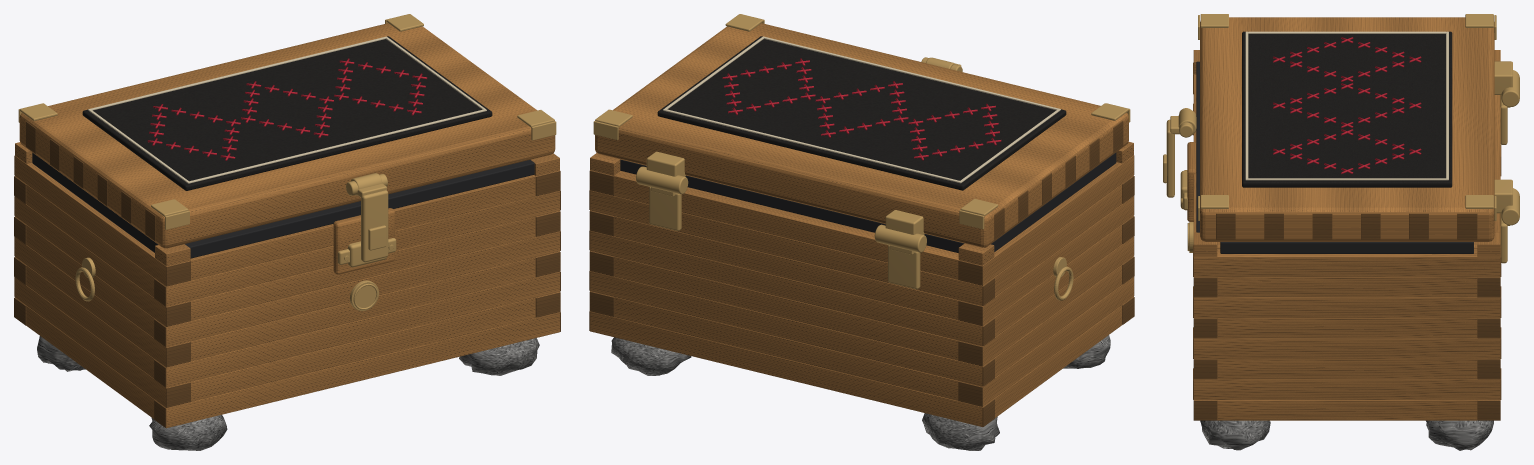
The model's file is palestine.glb.
3 renders of one model, left to right at view 1: azimuth 30°, elevation 25°; view 2: azimuth 150°, elevation 25°; view 3: azimuth 270°, elevation 25°, orthographic.
Visible parts, largest first — view 1: Lid / polished slab, Textile / inset, Honey wood / front course 0, Honey wood / front course 2, Honey wood / front course 4, Honey wood / front course 1, Honey wood / front course 3, Honey wood / front course 6, Honey wood / front course 5, Honey wood / front course 7, Mineral seam / long, Honey wood / side course 7 (+17 smaller); view 2: Lid / polished slab, Textile / inset, Honey wood / rear course 2, Honey wood / rear course 4, Honey wood / rear course 0, Honey wood / rear course 7, Honey wood / rear course 5, Honey wood / rear course 1, Honey wood / rear course 3, Honey wood / rear course 6, Honey wood / side course 7, Honey wood / side course 1 (+21 smaller); view 3: Textile / inset, Lid / polished slab, Honey wood / side course 7.001, Honey wood / side course 5.001, Honey wood / side course 3.001, Honey wood / side course 1.001, Honey wood / side course 6.001, Honey wood / side course 0.001, Honey wood / side course 2.001, Honey wood / side course 4.001, Mineral seam / side.001, Granite foot.002 (+34 smaller).
Part boxes in pixels (<box>): Lid / polished slab: <box>19,23,555,248</box>; Textile / inset: <box>82,36,492,190</box>; Honey wood / front course 0: <box>155,312,559,428</box>; Honey wood / front course 2: <box>155,271,559,387</box>; Honey wood / front course 4: <box>155,231,559,347</box>; Honey wood / front course 1: <box>190,298,535,401</box>; Honey wood / front course 3: <box>190,257,535,361</box>; Honey wood / front course 6: <box>155,191,559,306</box>; Honey wood / front course 5: <box>190,217,535,320</box>; Honey wood / front course 7: <box>190,175,535,280</box>; Mineral seam / long: <box>185,159,534,258</box>; Honey wood / side course 7: <box>14,156,190,286</box>; Lid / polished slab: <box>595,23,1128,247</box>; Textile / inset: <box>657,36,1066,190</box>; Honey wood / rear course 2: <box>590,271,994,386</box>; Honey wood / rear course 4: <box>590,230,994,346</box>; Honey wood / rear course 0: <box>590,311,993,426</box>; Honey wood / rear course 7: <box>614,171,958,279</box>; Honey wood / rear course 5: <box>614,216,958,320</box>; Honey wood / rear course 1: <box>614,297,958,400</box>; Honey wood / rear course 3: <box>614,256,958,360</box>; Honey wood / rear course 6: <box>590,190,993,305</box>; Honey wood / side course 7: <box>959,155,1133,285</box>; Honey wood / side course 1: <box>959,277,1133,406</box>; Textile / inset: <box>1242,31,1452,187</box>; Lid / polished slab: <box>1200,17,1494,241</box>; Honey wood / side course 7.001: <box>1194,249,1500,277</box>; Honey wood / side course 5.001: <box>1194,297,1500,318</box>; Honey wood / side course 3.001: <box>1194,338,1500,359</box>; Honey wood / side course 1.001: <box>1194,379,1500,399</box>; Honey wood / side course 6.001: <box>1217,277,1477,297</box>; Honey wood / side course 0.001: <box>1217,400,1477,420</box>; Honey wood / side course 2.001: <box>1217,359,1477,379</box>; Honey wood / side course 4.001: <box>1217,318,1477,338</box>; Mineral seam / side.001: <box>1220,242,1473,253</box>; Granite foot.002: <box>1200,420,1270,450</box>.
Bounding box in the file's own units: 3.79 × 2.36 × 2.88.
Materials: 8 (4 with a texture image).
